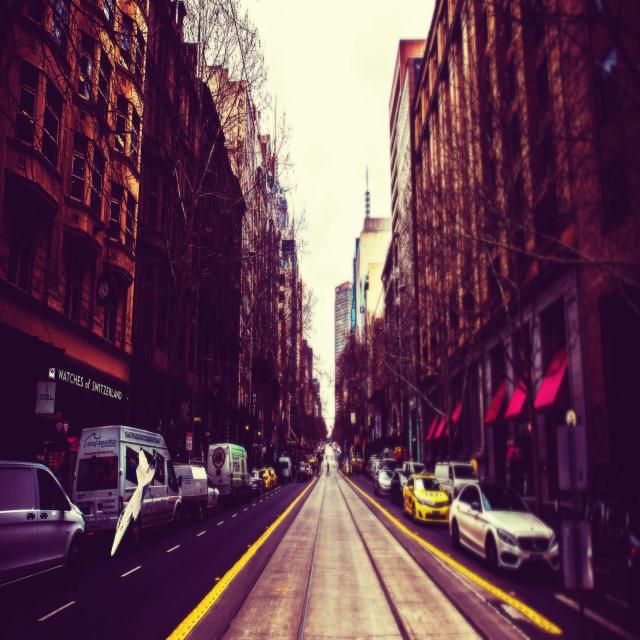airplane: (111, 447, 158, 559)
